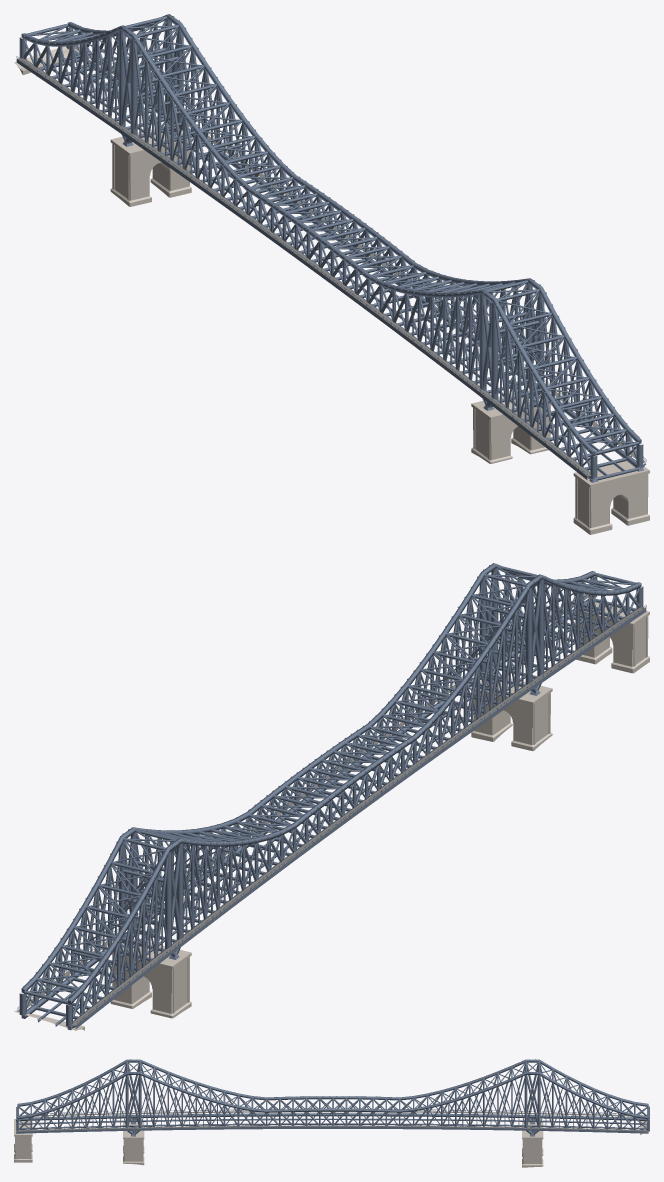
The model's file is brisbane-story-bridge.detail.glb.
The picture shows the model from 3 angles, top to bottom: view 1: azimuth 30°, elevation 25°; view 2: azimuth 150°, elevation 25°; view 3: azimuth 270°, elevation 25°; orthographic projection. The views are drawn at different scales.
Parts seen in each view (by area): view 1: Story Bridge; view 2: Story Bridge; view 3: Story Bridge.
Boxes of the visible parts, x1,y1,x2,y2 form: Story Bridge: (14, 14, 649, 534); Story Bridge: (14, 563, 649, 1030); Story Bridge: (14, 1059, 649, 1167).
Bounding box in the file's own units: 28.2 × 72.95 × 450.
